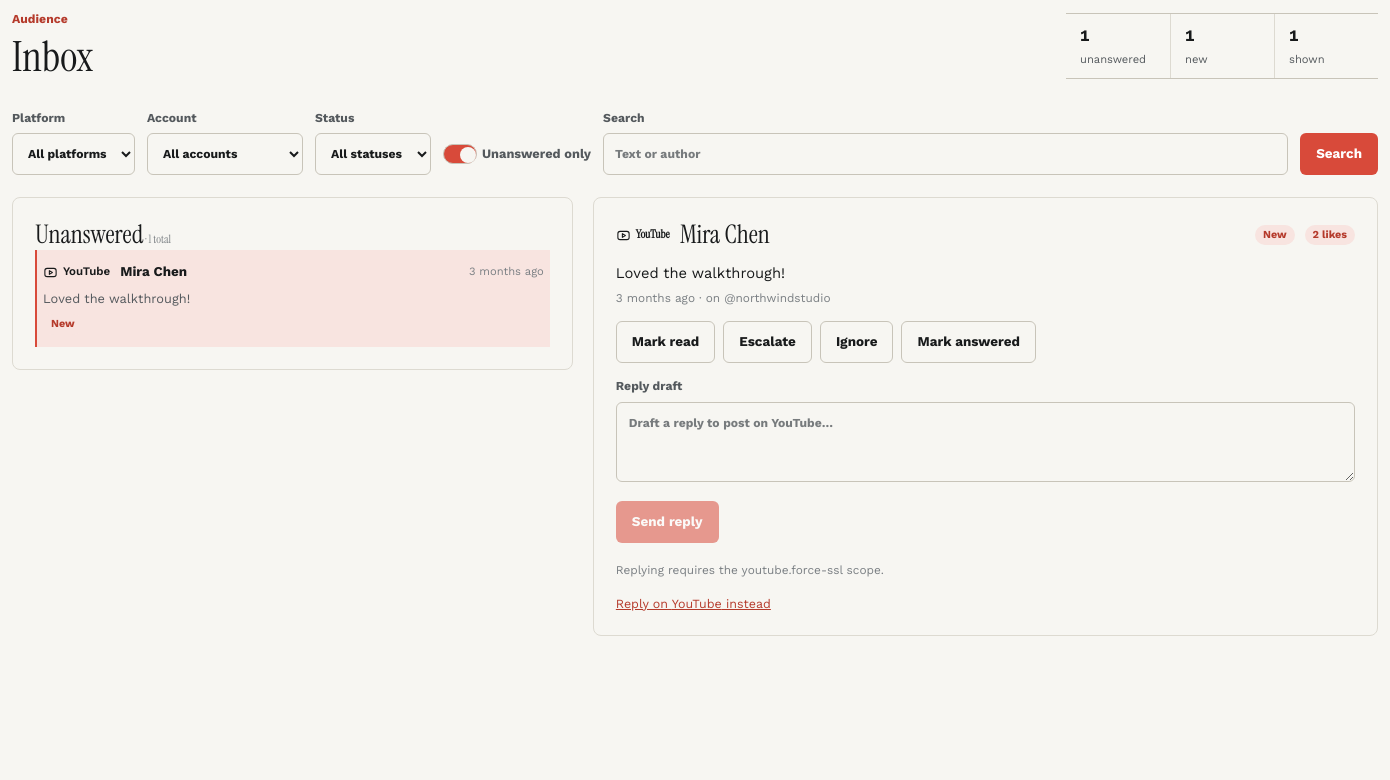
Test: InboxWorkspace › autosaves a draft on blur with PUT
Type "Thanks Mira!" into the text box with placeholder "Draft a reply to post on YouTube…".
click(985, 442); type("Thanks Mira!")  # box [616,402,1355,482]
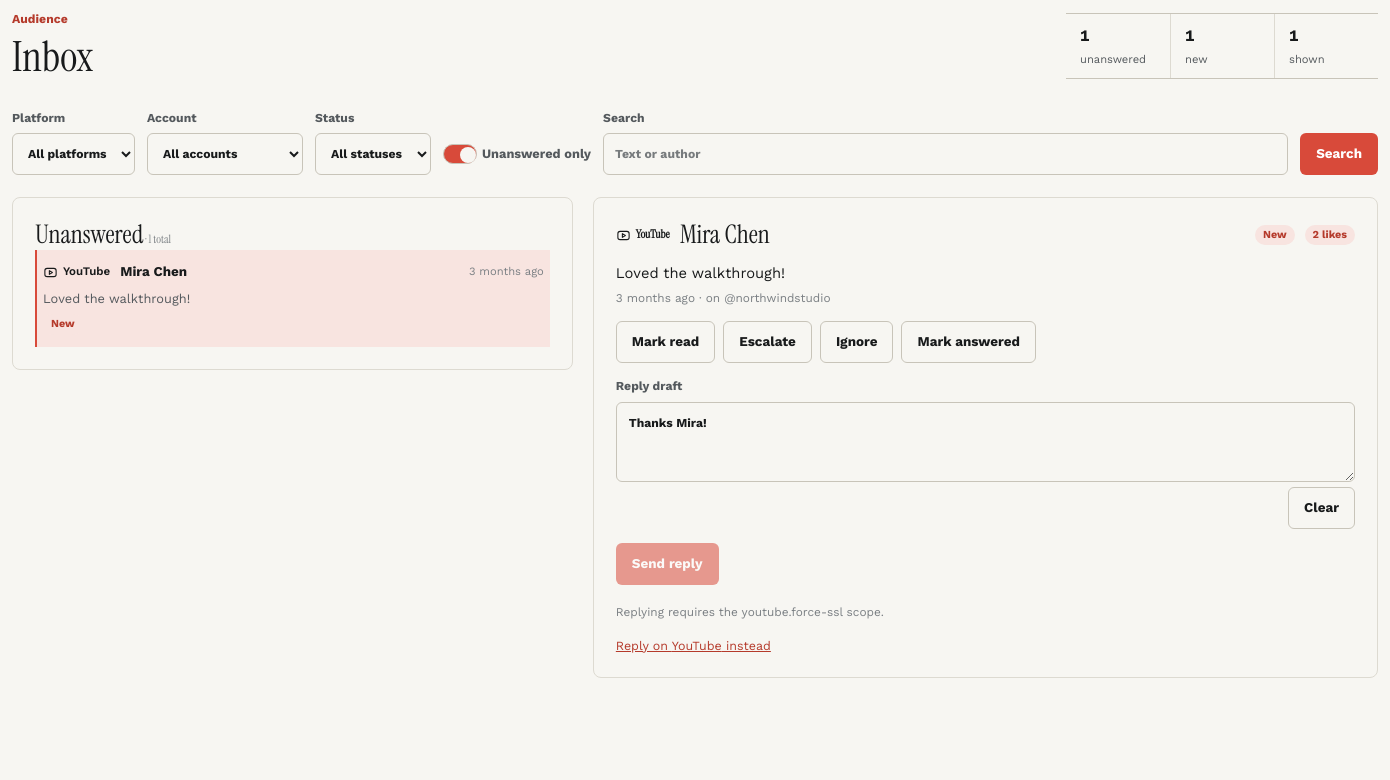
Leave the text box with placeholder "Draft a reply to post on YouTube…", box [616,402,1355,482]
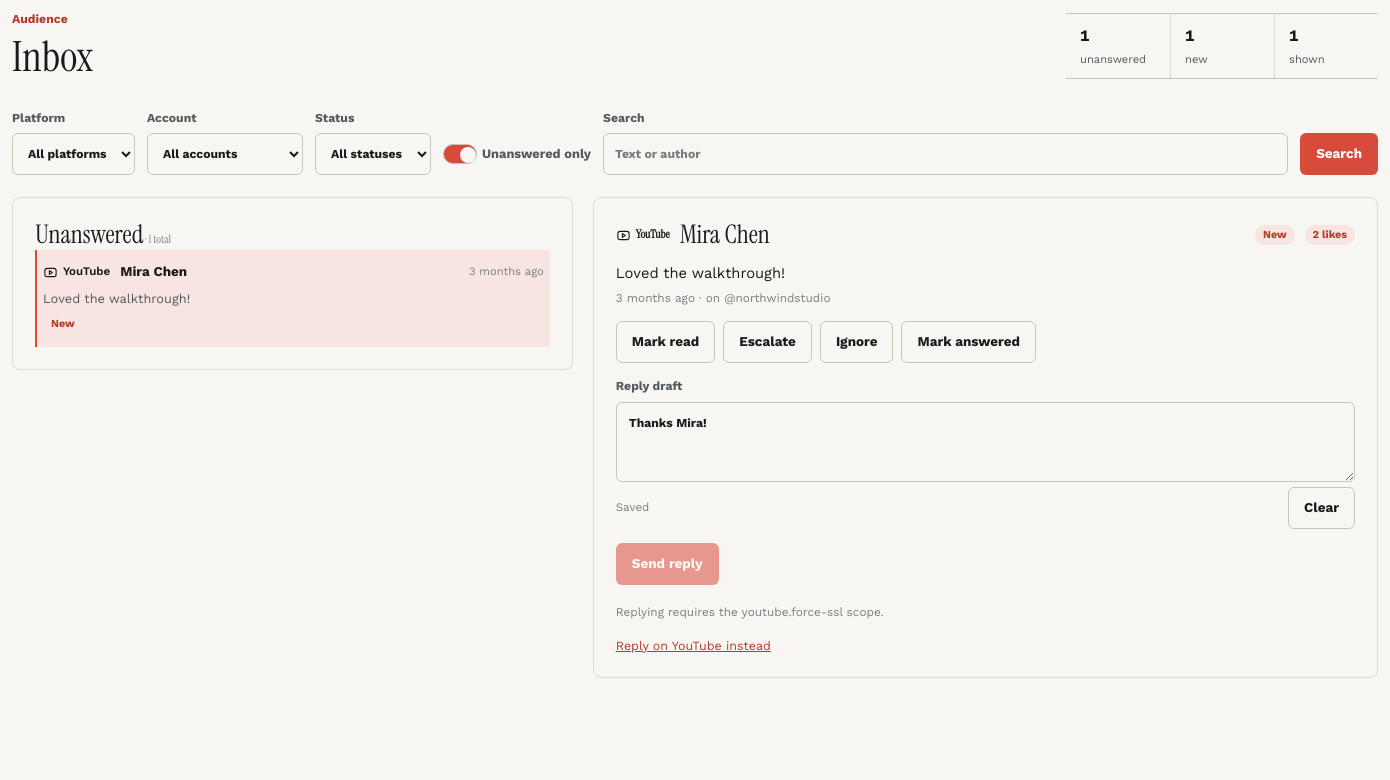
Expected: the text "Saved" is shown, [616,499,649,517]
